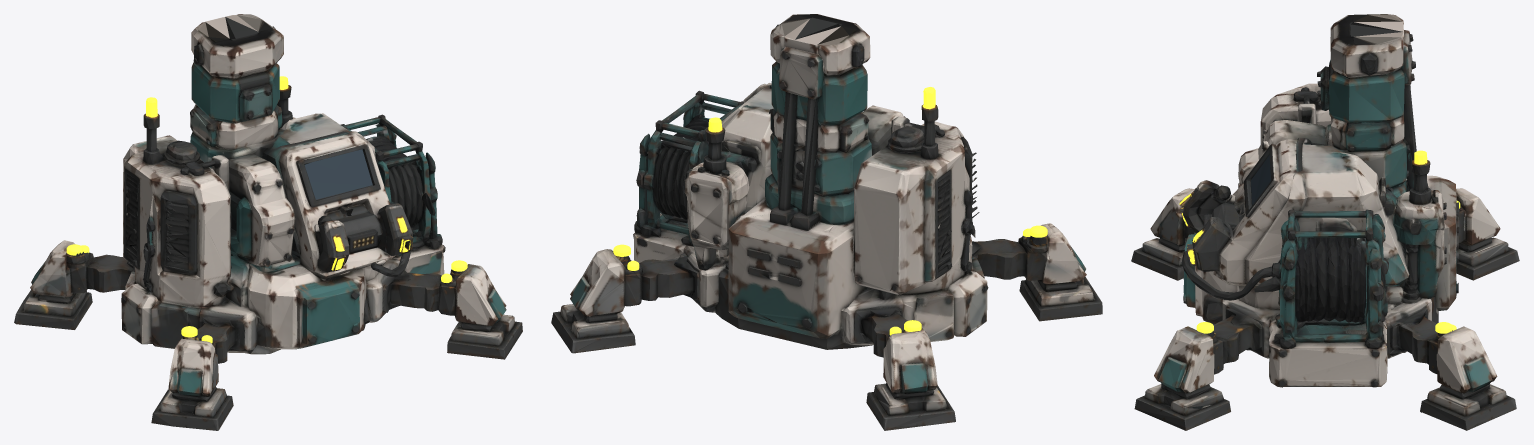
The model's file is console_c2_base.fbx.
The picture shows the model from 3 angles, left to right: view 1: azimuth 30°, elevation 25°; view 2: azimuth 150°, elevation 25°; view 3: azimuth 270°, elevation 25°; orthographic projection. The views are drawn at different scales.
Visible parts, largest first — view 1: console_c2_base; view 2: console_c2_base; view 3: console_c2_base.
Part boxes in pixels (box(x1,y1,x2,y2)): console_c2_base: box(14, 14, 522, 430); console_c2_base: box(551, 14, 1102, 430); console_c2_base: box(1131, 14, 1519, 430).
Bounding box in the file's own units: 1.48 × 1.08 × 1.27.
3 materials, 1 textured.
